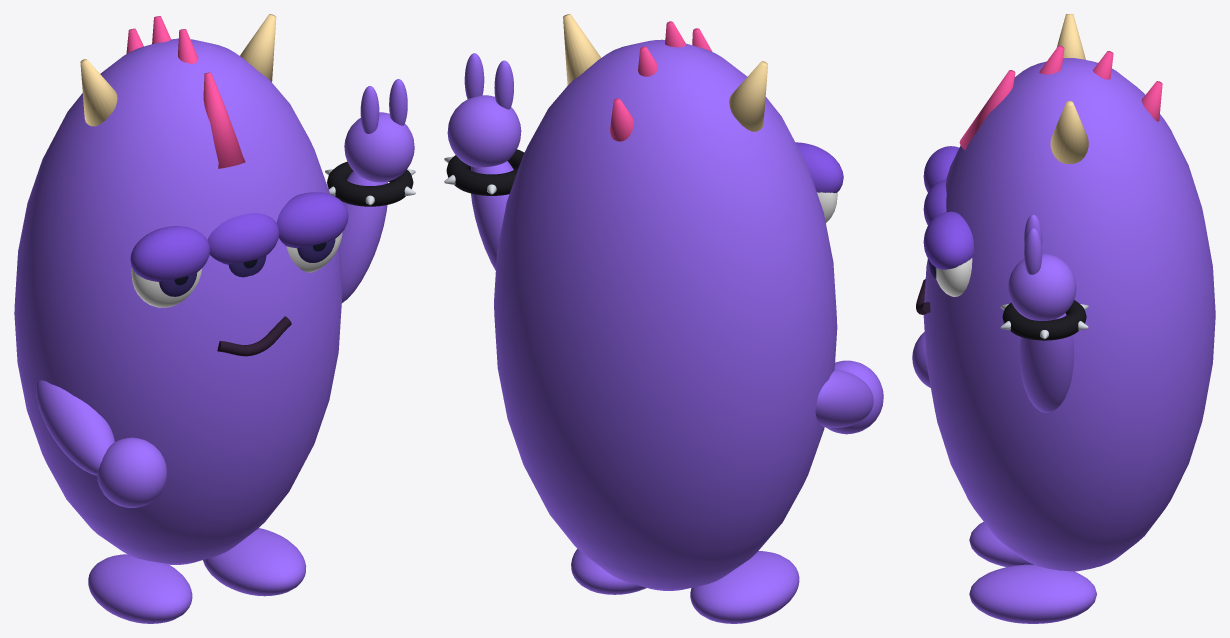
The model's file is Zorbo.fbx.
3 views of the same model, side by side, from view 1: azimuth 30°, elevation 25°; view 2: azimuth 150°, elevation 25°; view 3: azimuth 270°, elevation 25° (orthographic). The views are drawn at different scales.
Visible parts, largest first — view 1: Zorbo Cuerpo, Zorbo Pata, Zorbo Pata.001, Zorbo Brazo, Zorbo Mano, Zorbo Mano arriba, Zorbo Párpado, Zorbo Brazo arriba, Zorbo Párpado.002, Zorbo Párpado.001, Zorbo Pulsera, Zorbo Cresta (+7 smaller); view 2: Zorbo Cuerpo, Zorbo Pata, Zorbo Mano arriba, Zorbo Brazo, Zorbo Brazo arriba, Zorbo Cuernito, Zorbo Pulsera, Zorbo Pata.001, Zorbo Cuernito.001, Zorbo Párpado, Zorbo Mano, Zorbo Dedo (+2 smaller); view 3: Zorbo Cuerpo, Zorbo Pata.001, Zorbo Brazo arriba, Zorbo Mano arriba, Zorbo Párpado.002, Zorbo Pulsera, Zorbo Cuernito.001, Zorbo Pata, Zorbo Cresta, Zorbo Párpado, Zorbo Ojo.002, Zorbo Cuernito (+5 smaller).
Boxes of the visible parts, x1,y1,x2,y2 form: Zorbo Cuerpo: [14, 38, 342, 564]; Zorbo Pata: [88, 554, 192, 623]; Zorbo Pata.001: [203, 528, 306, 596]; Zorbo Brazo: [36, 380, 114, 475]; Zorbo Mano: [97, 437, 166, 507]; Zorbo Mano arriba: [344, 112, 414, 182]; Zorbo Párpado: [130, 226, 210, 281]; Zorbo Brazo arriba: [339, 171, 387, 303]; Zorbo Párpado.002: [276, 192, 348, 248]; Zorbo Párpado.001: [207, 213, 279, 264]; Zorbo Pulsera: [327, 161, 413, 206]; Zorbo Cresta: [203, 72, 245, 168]; Zorbo Cuerpo: [494, 39, 837, 590]; Zorbo Pata: [690, 551, 799, 623]; Zorbo Mano arriba: [447, 95, 521, 167]; Zorbo Brazo: [815, 369, 873, 427]; Zorbo Brazo arriba: [470, 161, 513, 270]; Zorbo Cuernito: [729, 61, 767, 131]; Zorbo Pulsera: [446, 149, 524, 195]; Zorbo Pata.001: [571, 549, 646, 594]; Zorbo Cuernito.001: [563, 14, 600, 85]; Zorbo Párpado: [795, 142, 843, 193]; Zorbo Mano: [826, 360, 883, 434]; Zorbo Dedo: [494, 60, 513, 109]; Zorbo Cuerpo: [923, 58, 1215, 571]; Zorbo Pata.001: [969, 564, 1096, 623]; Zorbo Brazo arriba: [1019, 313, 1074, 412]; Zorbo Mano arriba: [1008, 253, 1076, 320]; Zorbo Párpado.002: [923, 211, 973, 269]; Zorbo Pulsera: [1002, 300, 1086, 340]; Zorbo Cuernito.001: [1050, 101, 1088, 163]; Zorbo Pata: [969, 522, 1033, 567]; Zorbo Cresta: [959, 70, 1015, 150]; Zorbo Párpado: [923, 146, 958, 192]; Zorbo Ojo.002: [936, 258, 972, 296]; Zorbo Cuernito: [1057, 14, 1085, 59].
Size of the model in its own units: 0.93 by 1.31 by 0.665.
